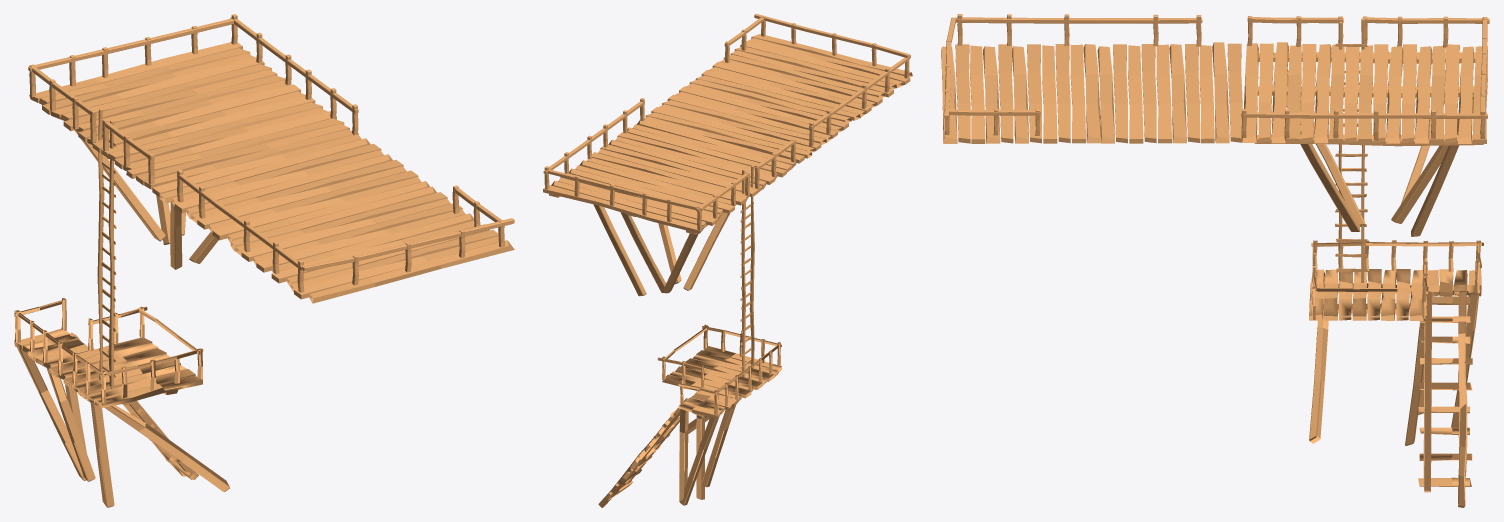
File: island tree platform.fbx
3 views of the same model, side by side, from view 1: azimuth 30°, elevation 25°; view 2: azimuth 150°, elevation 25°; view 3: azimuth 270°, elevation 25° (orthographic). The views are drawn at different scales.
Visible parts, largest first — view 1: Platform_2_2, Platform_2, Platform_1, Platform_2_1, Ladder, Platform_2_3, Stairs, Platform_2_4; view 2: Platform_2_2, Platform_2, Platform_2_1, Platform_1, Ladder, Stairs, Platform_2_3, Platform_2_4; view 3: Platform_2_2, Platform_2, Platform_2_1, Platform_1, Stairs, Platform_2_3, Ladder, Platform_2_4.
Part boxes in pixels (x1,y1,x2,y2): Platform_2_2: [28, 14, 514, 285]; Platform_2: [230, 186, 514, 303]; Platform_1: [14, 298, 229, 507]; Platform_2_1: [152, 134, 429, 242]; Ladder: [97, 108, 116, 389]; Platform_2_3: [177, 169, 304, 292]; Stairs: [69, 332, 198, 479]; Platform_2_4: [452, 185, 504, 247]; Platform_2_2: [543, 14, 910, 296]; Platform_2: [695, 34, 912, 120]; Platform_2_1: [645, 79, 851, 163]; Platform_1: [657, 324, 781, 505]; Ladder: [740, 165, 754, 376]; Stairs: [598, 390, 700, 507]; Platform_2_3: [809, 53, 910, 146]; Platform_2_4: [724, 15, 765, 62]; Platform_2_2: [944, 16, 1489, 236]; Platform_2: [941, 44, 1100, 143]; Platform_2_1: [1097, 42, 1242, 143]; Platform_1: [1309, 240, 1483, 445]; Stairs: [1418, 291, 1472, 507]; Platform_2_3: [955, 14, 1202, 46]; Ladder: [1335, 18, 1367, 284]; Platform_2_4: [945, 108, 1040, 135].
Bounding box in the file's own units: 40.06 × 73.95 × 86.19.
